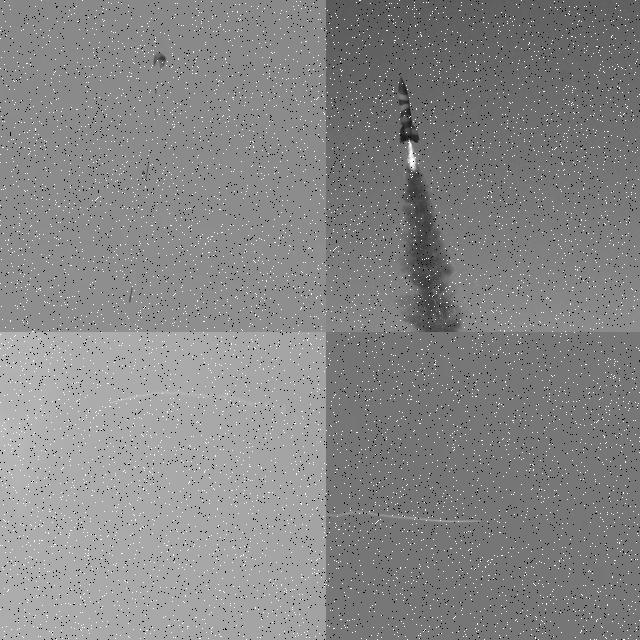Rocket: (396, 76, 421, 143), (128, 287, 132, 303), (107, 402, 111, 404), (480, 520, 482, 522)
